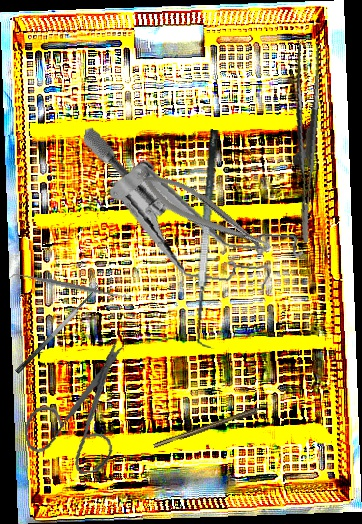Hook Surgical: (152, 402, 274, 449)
Iris Scissors: (11, 337, 147, 483)
Needle Holder: (132, 160, 274, 265)
Spatula Surgical: (186, 129, 238, 349), (7, 278, 105, 376), (7, 266, 129, 305)
Speculum: (66, 125, 317, 297)
Tissue Forceps: (268, 42, 339, 243)
